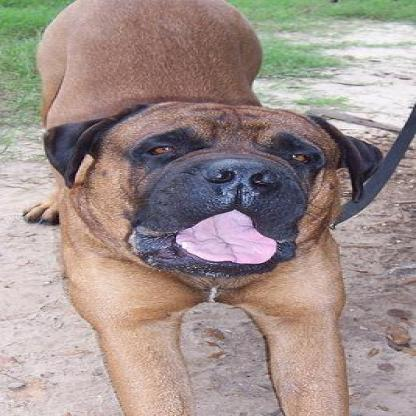bull_mastiff: (17, 0, 385, 414)
